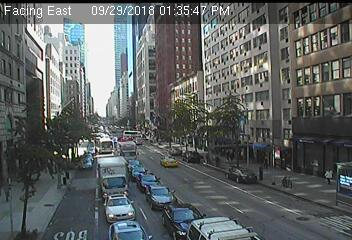car: (188, 216, 259, 240), (162, 203, 207, 240), (96, 156, 130, 200), (103, 194, 137, 221), (145, 184, 178, 210), (109, 221, 153, 240), (225, 166, 257, 185), (137, 172, 162, 194), (117, 141, 139, 166), (95, 137, 113, 154), (129, 164, 146, 181), (181, 151, 201, 164), (160, 155, 177, 167), (127, 160, 142, 172), (79, 158, 92, 169), (166, 148, 181, 156), (81, 153, 92, 161)
